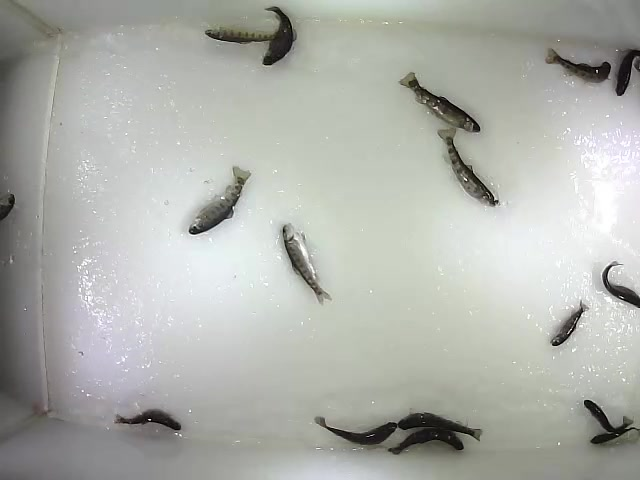fish: (396, 69, 482, 135), (436, 126, 502, 208), (188, 165, 252, 235), (282, 222, 332, 307), (399, 408, 484, 443), (313, 415, 398, 447), (544, 47, 613, 85), (261, 5, 298, 68), (387, 427, 466, 456), (549, 299, 590, 347), (601, 260, 640, 310), (204, 25, 298, 45), (583, 399, 634, 434), (113, 407, 182, 432), (615, 49, 640, 97), (589, 426, 640, 445)
